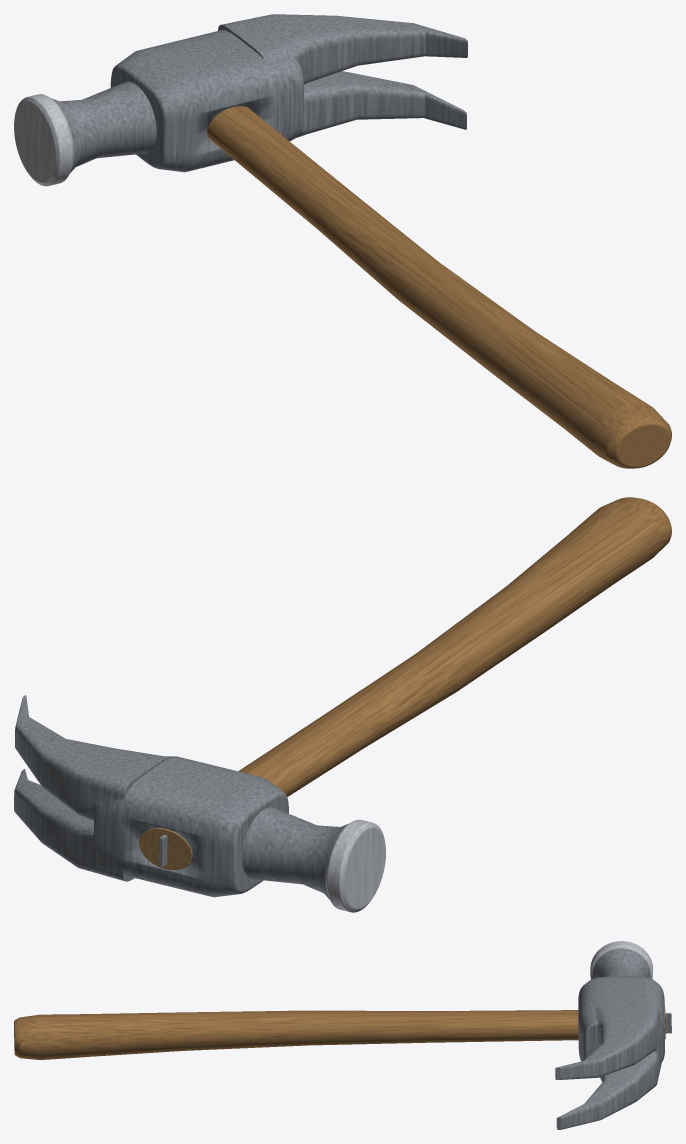
Rendered from hammer1.obj.
The picture shows the model from 3 angles, top to bottom: view 1: azimuth 30°, elevation 25°; view 2: azimuth 150°, elevation 25°; view 3: azimuth 270°, elevation 25°; orthographic projection. The views are drawn at different scales.
Visible parts, largest first — view 1: Forged_head_with_split_claw, Shaped_wooden_handle, Ground_striking_face; view 2: Forged_head_with_split_claw, Shaped_wooden_handle, Ground_striking_face, Exposed_end_grain_in_eye; view 3: Shaped_wooden_handle, Forged_head_with_split_claw, Ground_striking_face.
Part boxes in pixels (x1,y1,x2,y2): Forged_head_with_split_claw: (51, 14, 467, 173); Shaped_wooden_handle: (207, 106, 671, 468); Ground_striking_face: (14, 94, 73, 186); Forged_head_with_split_claw: (14, 695, 347, 899); Shaped_wooden_handle: (238, 497, 671, 796); Ground_striking_face: (325, 819, 385, 912); Exposed_end_grain_in_eye: (139, 828, 192, 869); Shaped_wooden_handle: (14, 1010, 578, 1059); Forged_head_with_split_claw: (555, 948, 664, 1129); Ground_striking_face: (590, 941, 652, 979).
Bounding box in the file's own units: 0.155 × 0.0383 × 0.3347.
4 materials, 4 textured.
